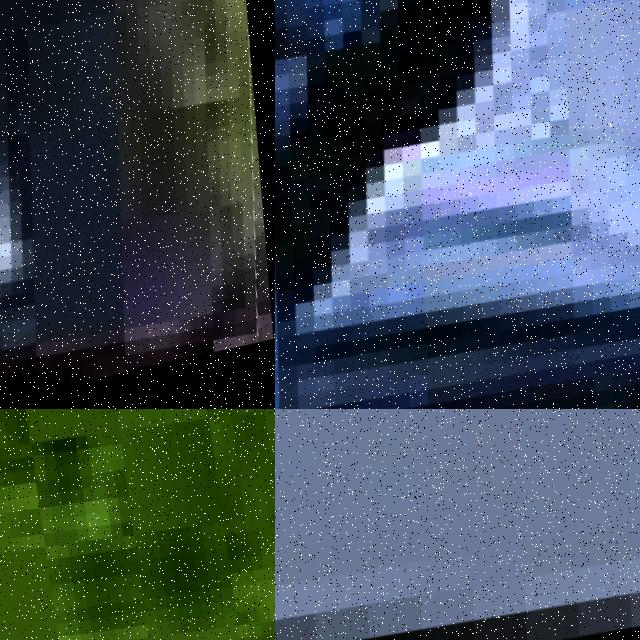0: (0, 0, 275, 409)
drone: (275, 0, 640, 409), (275, 409, 640, 640)
